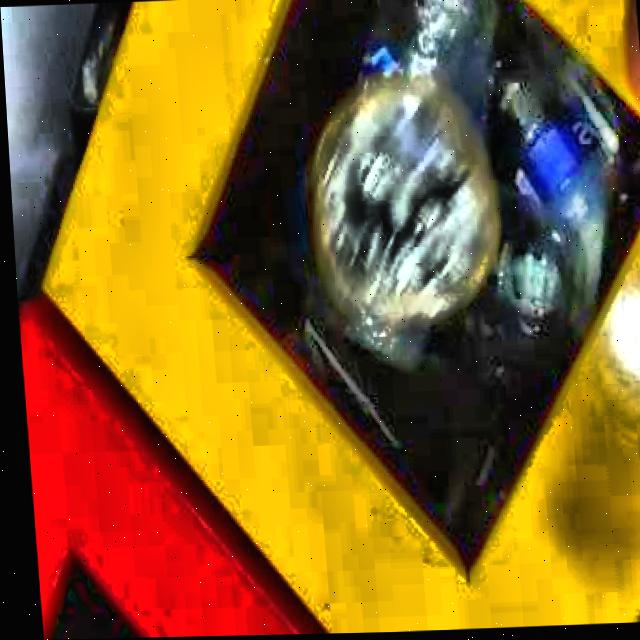plastic: (310, 0, 497, 368)
